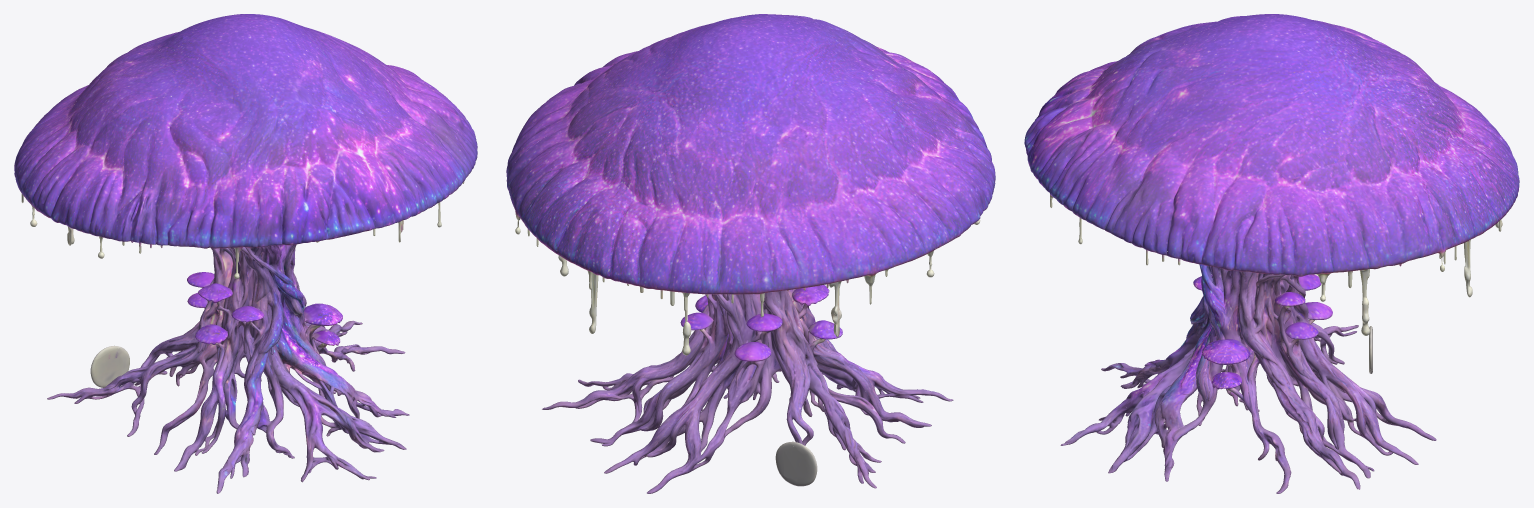
File: mushtree2.glb
3 views of the same model, side by side, from view 1: azimuth 30°, elevation 25°; view 2: azimuth 150°, elevation 25°; view 3: azimuth 270°, elevation 25° (orthographic). The views are drawn at different scales.
Visible parts, largest first — view 1: tripo_node_0181cdeb-7db0-4981-bbd7-64ca42cd1abf; view 2: tripo_node_0181cdeb-7db0-4981-bbd7-64ca42cd1abf; view 3: tripo_node_0181cdeb-7db0-4981-bbd7-64ca42cd1abf.
Boxes of the visible parts, x1,y1,x2,y2 form: tripo_node_0181cdeb-7db0-4981-bbd7-64ca42cd1abf: [14, 14, 477, 493]; tripo_node_0181cdeb-7db0-4981-bbd7-64ca42cd1abf: [506, 14, 995, 493]; tripo_node_0181cdeb-7db0-4981-bbd7-64ca42cd1abf: [1024, 14, 1519, 493].
Size of the model in its own units: 109 by 100 by 109.
Materials: 1 (1 with a texture image).
